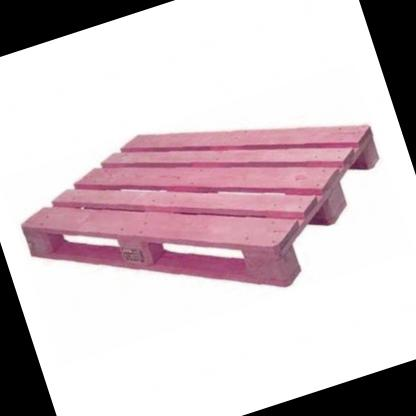BoxFace: (19, 123, 385, 290)
